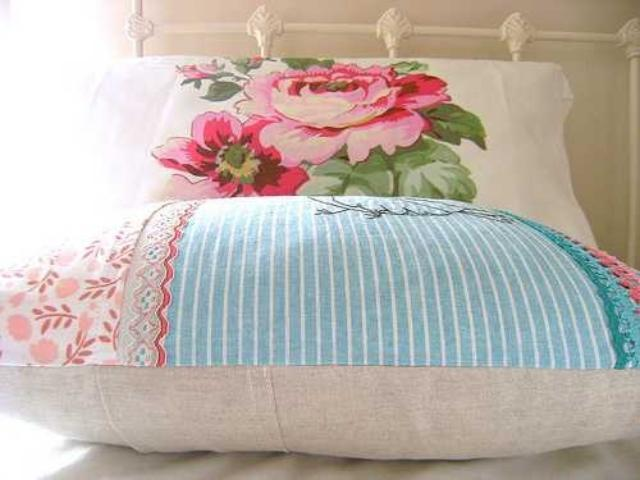pillow: (6, 196, 640, 460), (86, 54, 596, 248)
